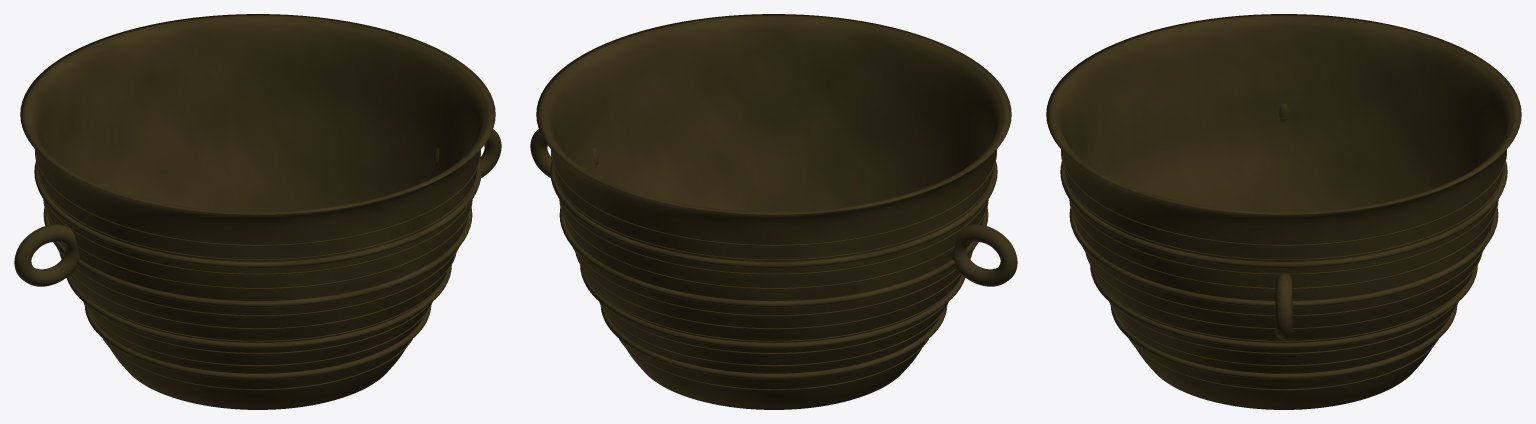
The model's file is bcm-1107.glb.
3 views of the same model, side by side, from view 1: azimuth 30°, elevation 25°; view 2: azimuth 150°, elevation 25°; view 3: azimuth 270°, elevation 25° (orthographic).
Visible parts, largest first — view 1: Continuous hollow vessel with formed lip; view 2: Continuous hollow vessel with formed lip; view 3: Continuous hollow vessel with formed lip.
Part boxes in pixels (left/top/right/bottom): Continuous hollow vessel with formed lip: left=14, top=14, right=501, bottom=409; Continuous hollow vessel with formed lip: left=530, top=14, right=1017, bottom=409; Continuous hollow vessel with formed lip: left=1046, top=14, right=1521, bottom=409.
Size of the model in its own units: 1.41 by 0.66 by 1.2.
